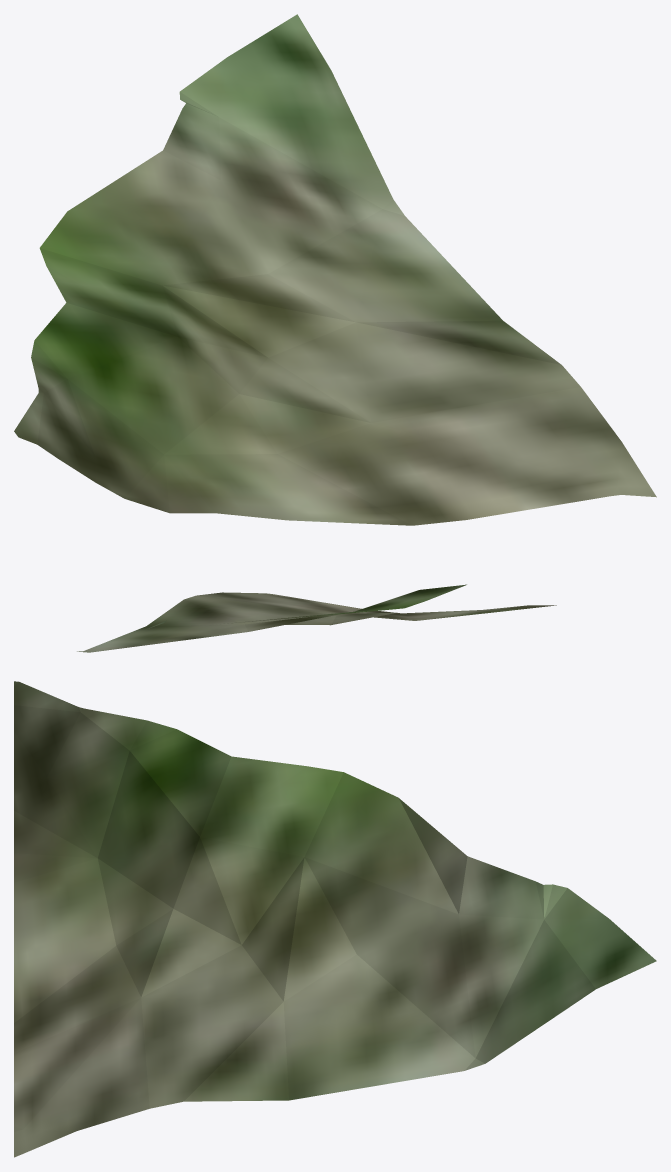
3 views of the same model, one above another, from view 1: azimuth 30°, elevation 25°; view 2: azimuth 150°, elevation 25°; view 3: azimuth 270°, elevation 25° (orthographic). The views are drawn at different scales.
Size of the model in its own units: 0.9155 by 0.2999 by 0.8891.
Materials: 1 (1 with a texture image).
